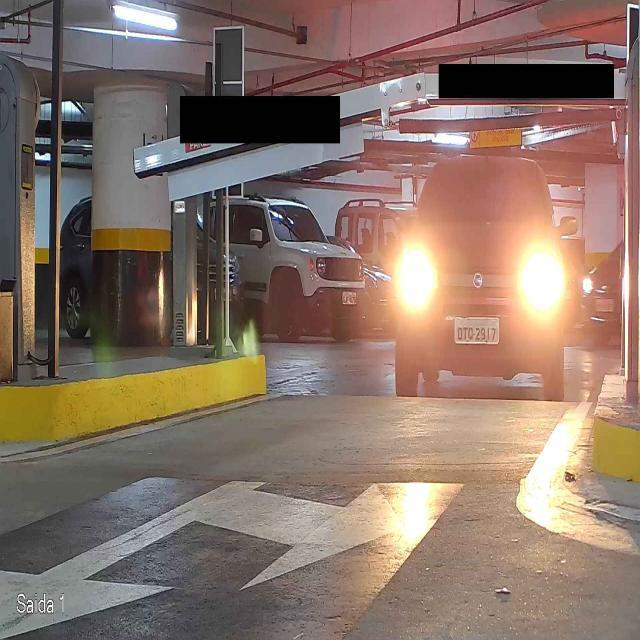old_plate: (454, 316, 500, 345)
